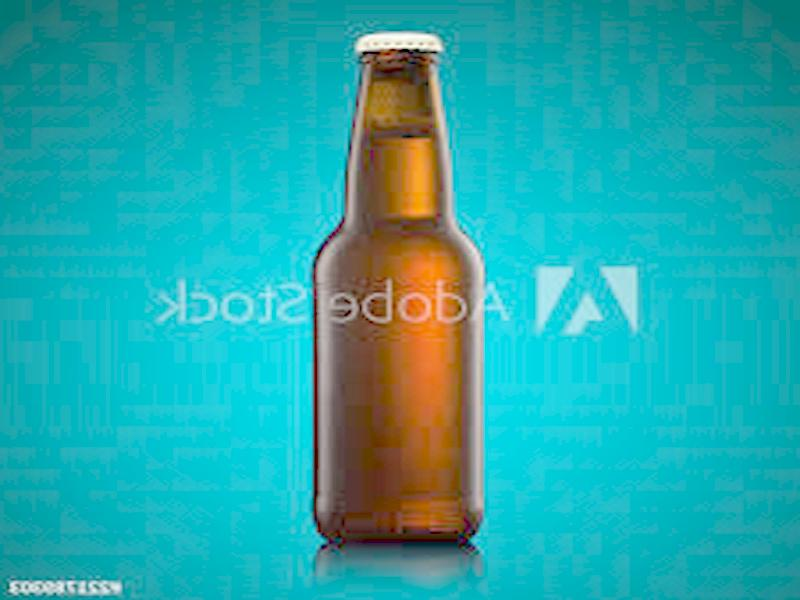Beer: (308, 32, 483, 544)
